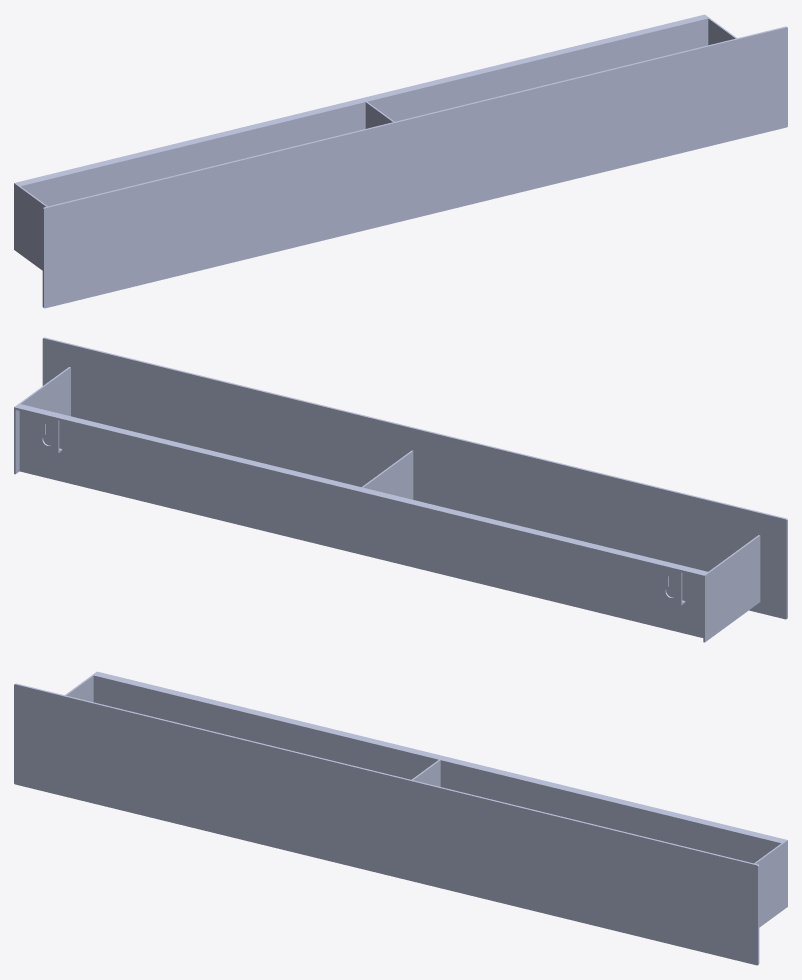
File: skyline-mono.c96938d304.glb
The picture shows the model from 3 angles, top to bottom: view 1: azimuth 30°, elevation 25°; view 2: azimuth 150°, elevation 25°; view 3: azimuth 330°, elevation 25°; orthographic projection.
Parts seen in each view (by area): view 1: NAUO1; view 2: NAUO1; view 3: NAUO1.
Part boxes in pixels (x1,y1,x2,y2): NAUO1: (14,14,787,308); NAUO1: (14,337,787,642); NAUO1: (14,671,787,965).
Size of the model in its own units: 0.7 by 0.09 by 0.092.
